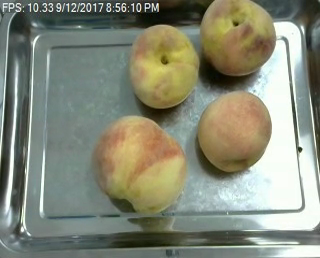Peach: (92, 114, 186, 213), (199, 0, 276, 79), (128, 23, 199, 108), (198, 89, 271, 171)
